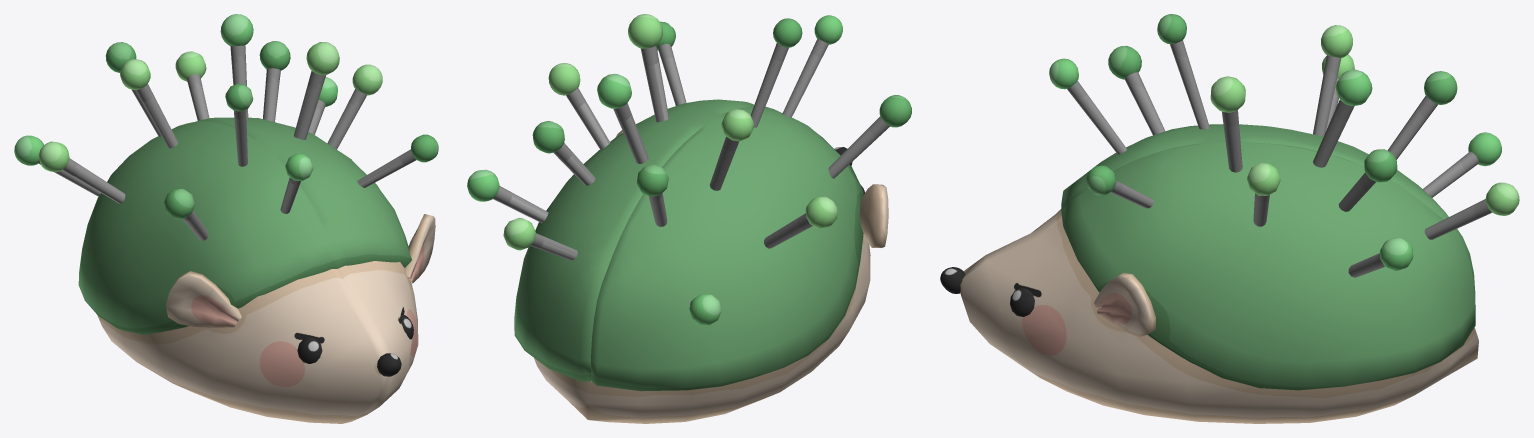
Rendered from NeedleEnemy.gltf.
The picture shows the model from 3 angles, left to right: view 1: azimuth 30°, elevation 25°; view 2: azimuth 150°, elevation 25°; view 3: azimuth 270°, elevation 25°; orthographic projection. The views are drawn at different scales.
Parts seen in each view (by area): view 1: NeedleEnemy; view 2: NeedleEnemy; view 3: NeedleEnemy.
Boxes of the visible parts, box(x1,y1,x2,y2) form: NeedleEnemy: box(14, 14, 438, 423); NeedleEnemy: box(467, 14, 911, 423); NeedleEnemy: box(940, 14, 1519, 423).
Size of the model in its own units: 2 by 1.83 by 2.86.
1 material, 1 textured.
